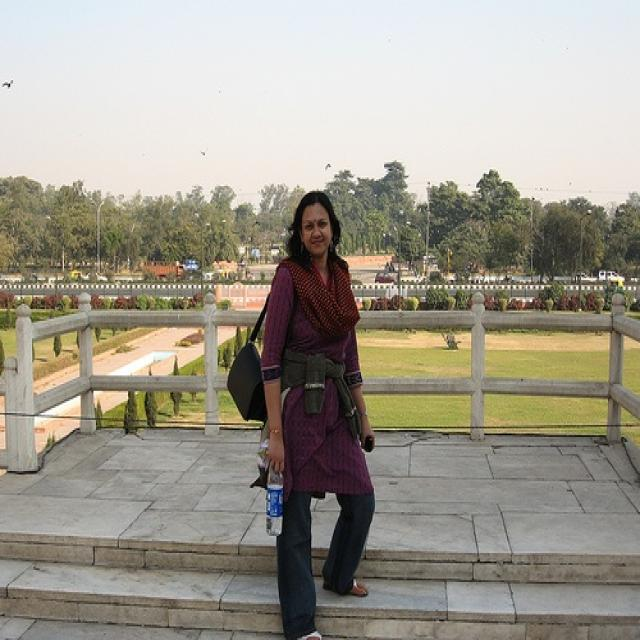bottle: (259, 439, 289, 541)
